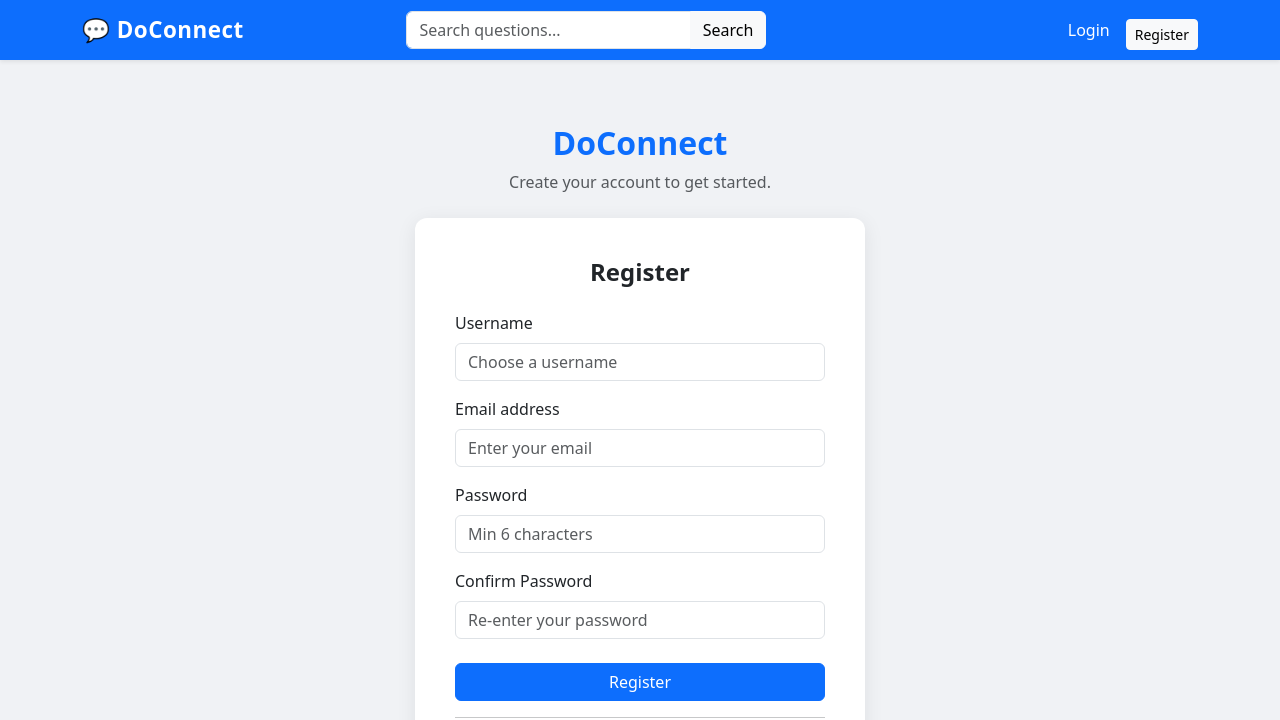
Test: DoConnect E2E Tests › Register Page › shows error for short username
Type "ab" into the field named "username" at {"x": 640, "y": 362}, box left=455, top=343, right=825, bottom=381
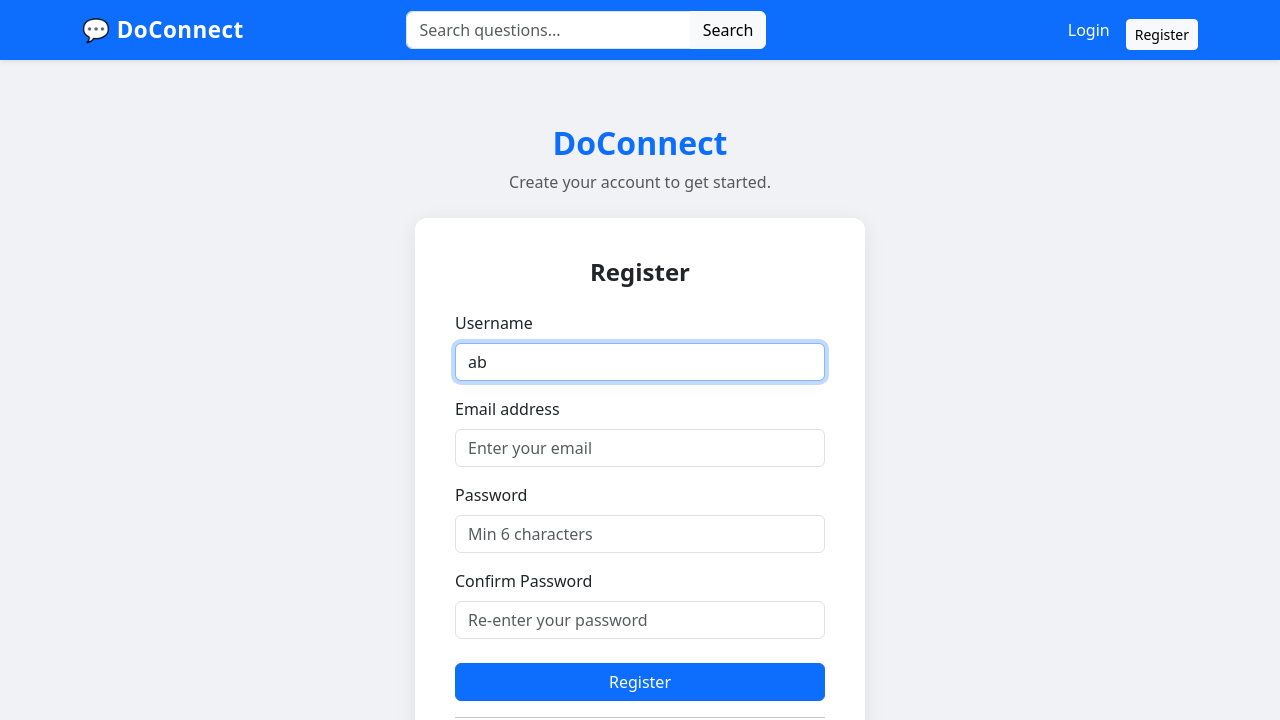
Type "test@test.com" into the field named "email" at {"x": 640, "y": 448}, box left=455, top=429, right=825, bottom=467
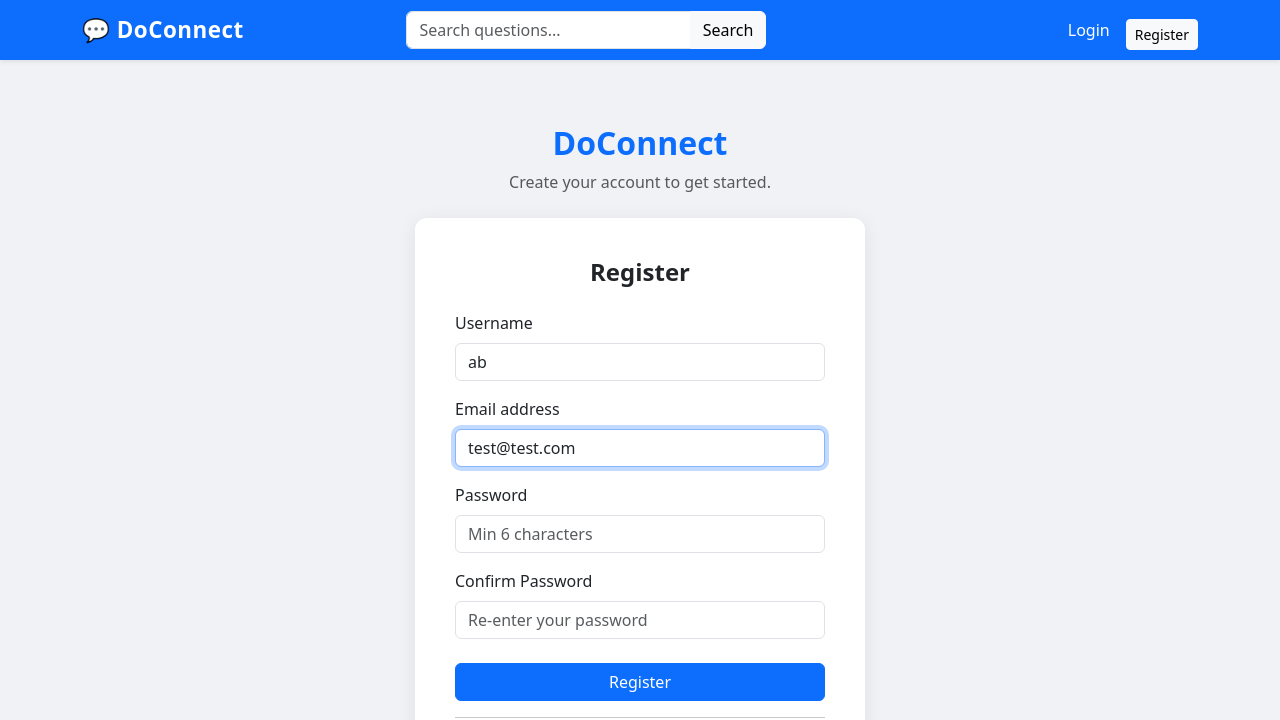
Type "password123" into the password field named "password" at {"x": 640, "y": 534}, box left=455, top=515, right=825, bottom=553
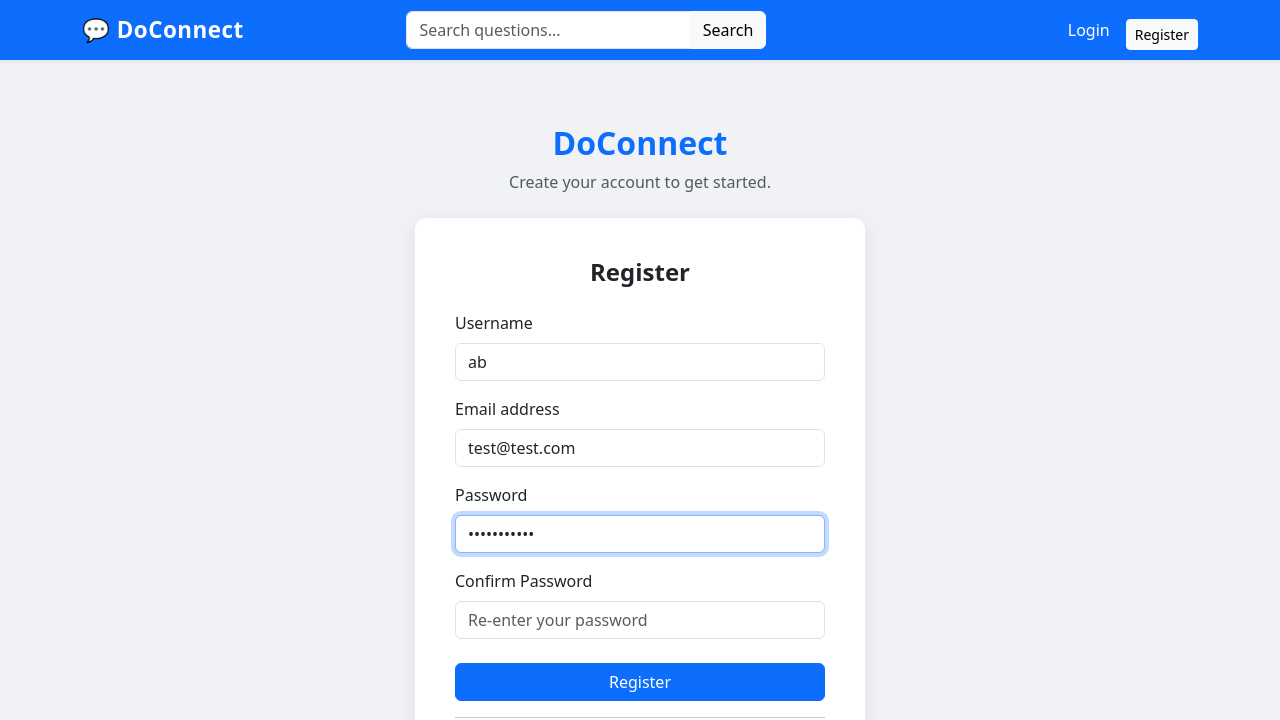
Type "password123" into the password field named "confirmPassword" at {"x": 640, "y": 620}, box left=455, top=601, right=825, bottom=639
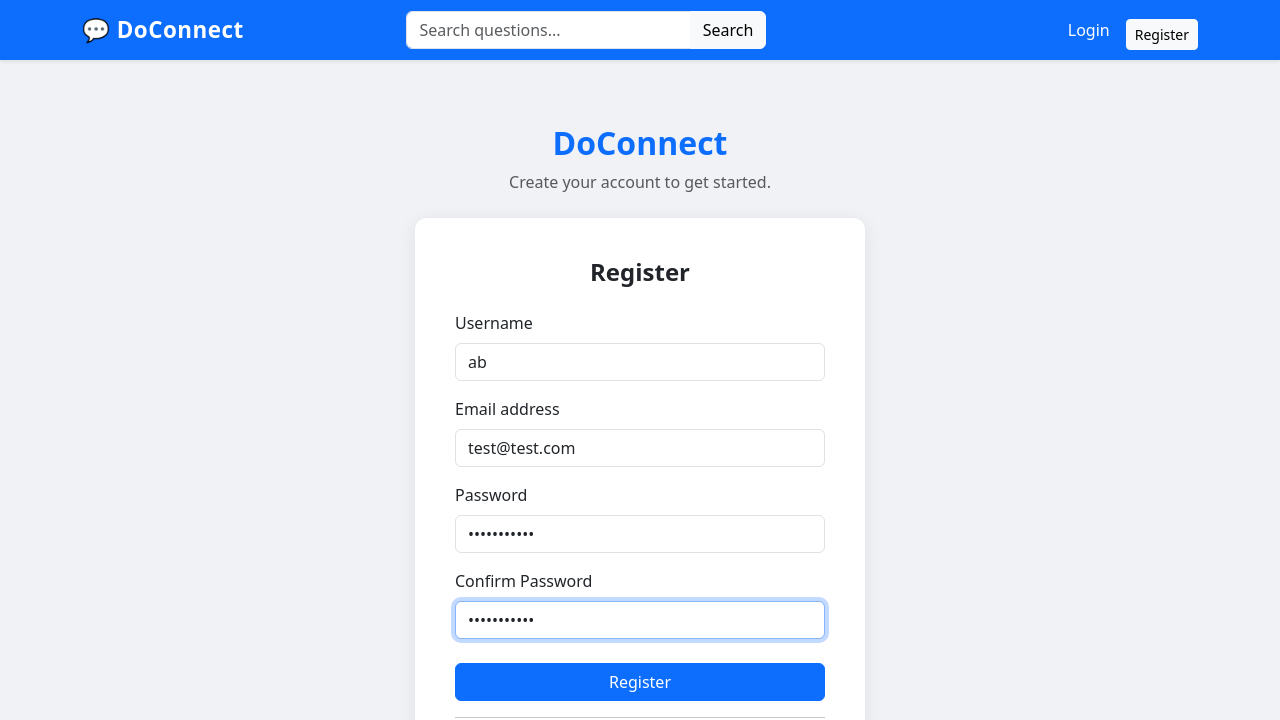
Click the button "Register" below "Confirm Password" at {"x": 640, "y": 682}, box left=455, top=663, right=825, bottom=701
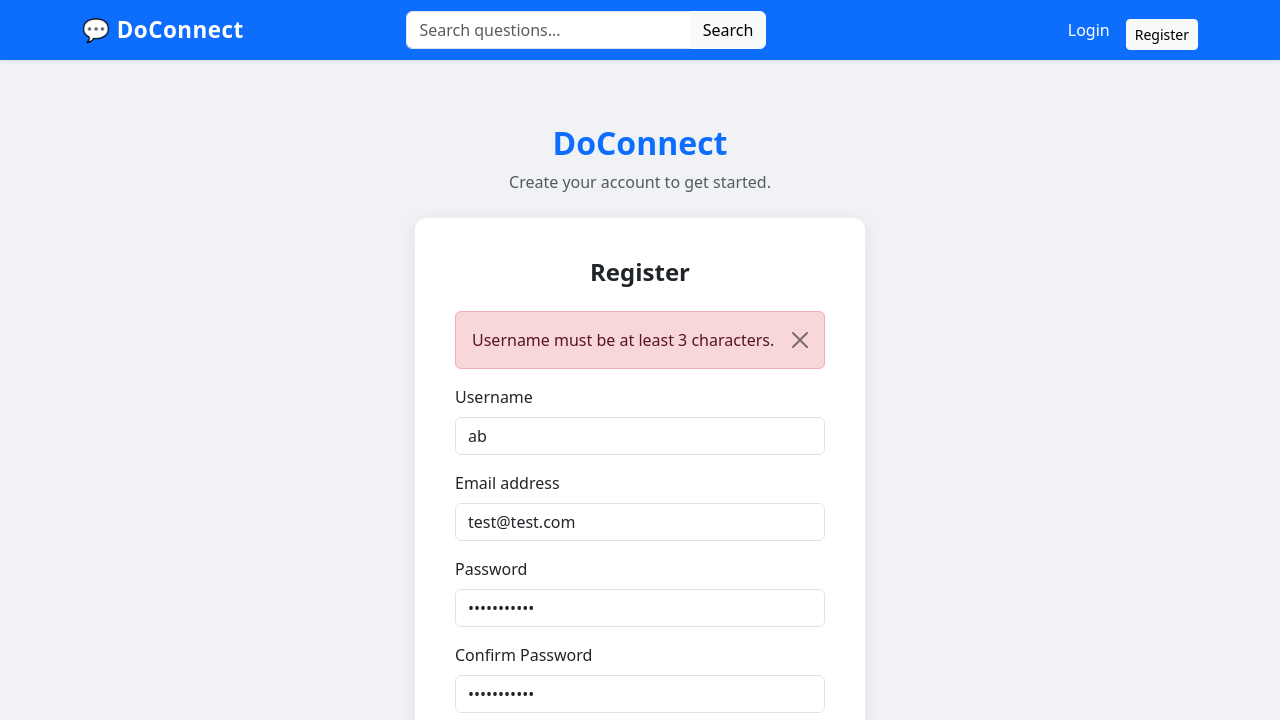
Result: the text "Username must be at least 3 characters." is shown at left=455, top=311, right=825, bottom=369
